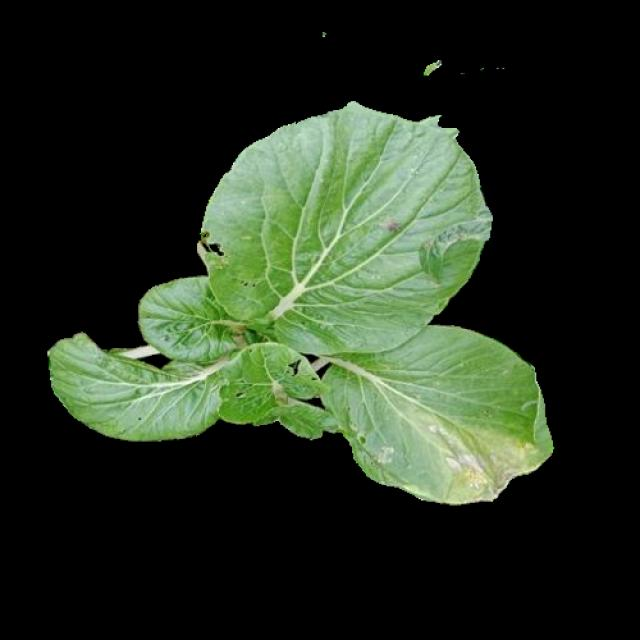not-mature: (49, 102, 553, 496)
unhealthy: (202, 108, 484, 354), (324, 330, 548, 496), (51, 280, 251, 439), (222, 348, 331, 438)
